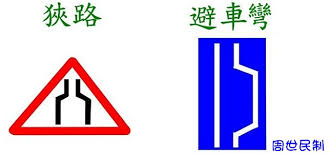Narrow_road: (6, 54, 136, 139)
